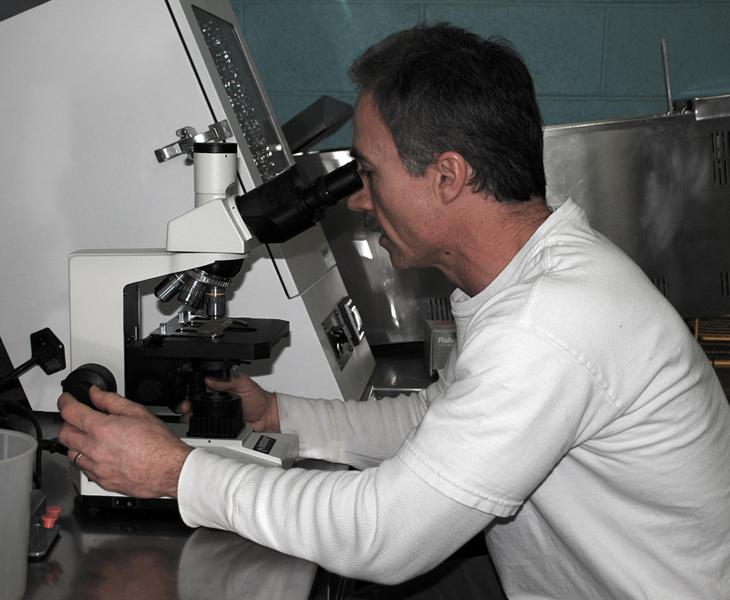person: (60, 26, 729, 600)
